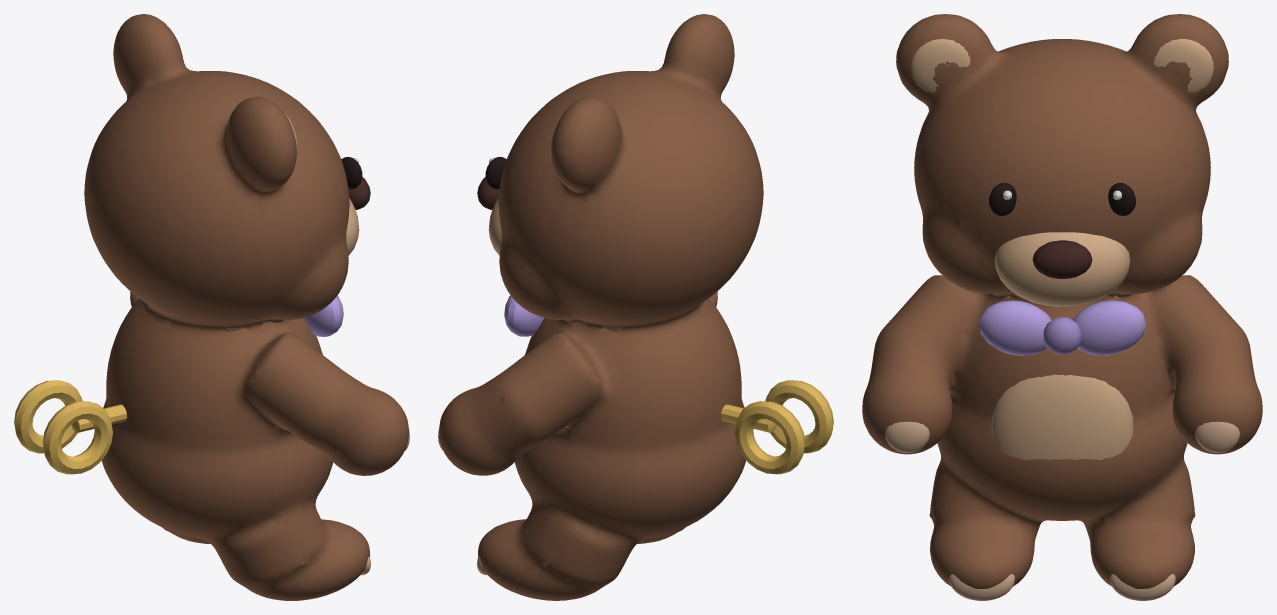
Rendered from W5_WindupBear_lod1.fbx.
The picture shows the model from 3 angles, left to right: view 1: azimuth 30°, elevation 25°; view 2: azimuth 150°, elevation 25°; view 3: azimuth 270°, elevation 25°; orthographic projection. The views are drawn at different scales.
Visible parts, largest first — view 1: W5_WindupBear.001; view 2: W5_WindupBear.001; view 3: W5_WindupBear.001.
Part boxes in pixels (<box>): W5_WindupBear.001: <box>14,14,409,600</box>; W5_WindupBear.001: <box>438,14,833,600</box>; W5_WindupBear.001: <box>862,14,1262,600</box>.
Bounding box in the file's own units: 0.2846 × 0.4206 × 0.2841.
